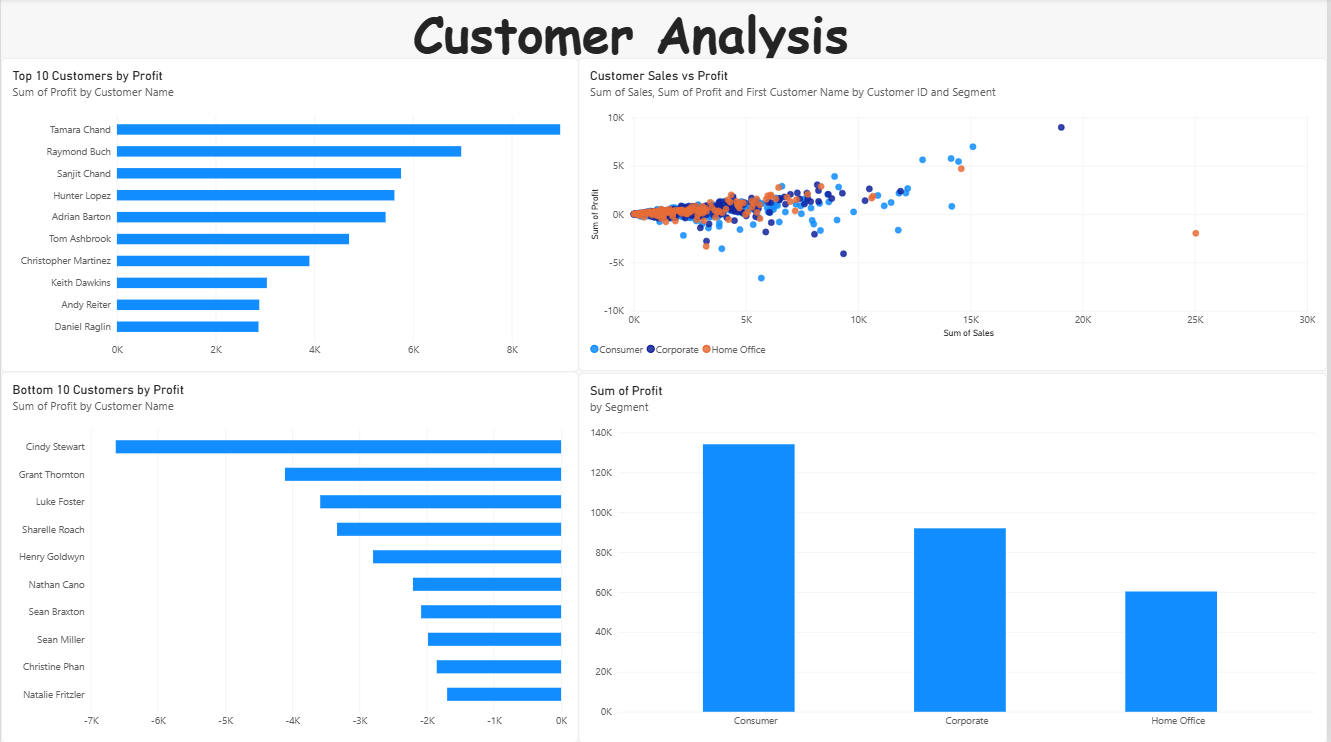

The dashboard page shown, as its layout file describes it:
{"tool":"powerbi","page":{"name":"Customer Analysis","canvas":[1920,1080],"ordinal":2},"visuals":[{"type":"textbox","box":[533.3,0,766.9,109],"z":0},{"type":"clusteredBarChart","title":"Top 10 Customers by Profit","fields":{"Category":["cleaned_superstore.Customer Name"],"Y":["Sum(cleaned_superstore.Profit)"]},"box":[0,86.9,836.1,454.2],"z":1000},{"type":"clusteredBarChart","title":"Bottom 10 Customers by Profit","fields":{"Category":["cleaned_superstore.Customer Name"],"Y":["Sum(cleaned_superstore.Profit)"]},"box":[0,541.1,836.1,537.5],"z":2000},{"type":"scatterChart","title":"Customer Sales vs Profit","fields":{"X":["Sum(cleaned_superstore.Sales)"],"Y":["Sum(cleaned_superstore.Profit)"],"Category":["cleaned_superstore.Customer ID"],"Series":["cleaned_superstore.Segment"]},"box":[836.1,86.9,1084,452.4],"z":3000},{"type":"clusteredColumnChart","fields":{"Category":["cleaned_superstore.Segment"],"Y":["Sum(cleaned_superstore.Profit)"]},"box":[836.1,542.9,1084,535.7],"z":4000}]}

Visuals, with their boxes in screenshot pixels (x1, y1, x2, y2), scaled from the page's 1920x1080 canvas onto the 1331x742 screenshot:
textbox: 370:0:901:75
"Top 10 Customers by Profit" clusteredBarChart: 0:60:580:372
"Bottom 10 Customers by Profit" clusteredBarChart: 0:372:580:741
"Customer Sales vs Profit" scatterChart: 580:60:1330:371
clusteredColumnChart - cleaned_superstore.Segment x Sum(cleaned_superstore.Profit): 580:373:1330:741
